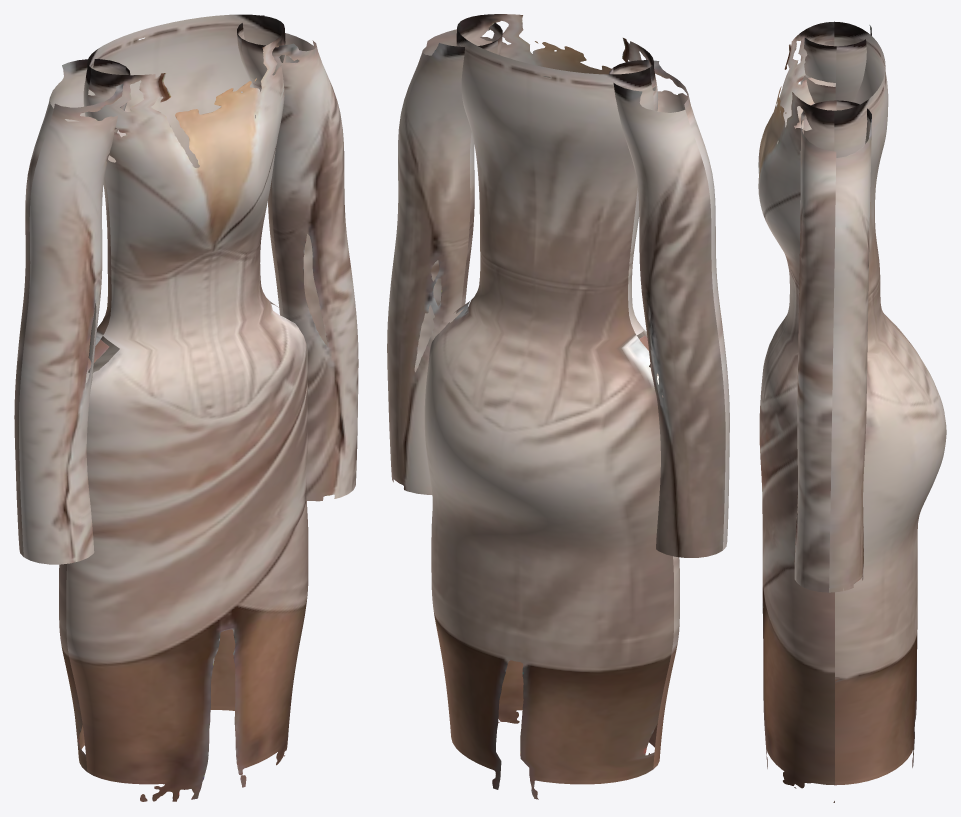
File: prod-ae-champagne-blazer-dress.glb
The picture shows the model from 3 angles, left to right: view 1: azimuth 30°, elevation 25°; view 2: azimuth 150°, elevation 25°; view 3: azimuth 270°, elevation 25°; orthographic projection. The views are drawn at different scales.
Parts seen in each view (by area): view 1: prod-ae-champagne-blazer-dress; view 2: prod-ae-champagne-blazer-dress; view 3: prod-ae-champagne-blazer-dress.
Boxes of the visible parts, x1,y1,x2,y2 form: prod-ae-champagne-blazer-dress: [14, 14, 358, 801]; prod-ae-champagne-blazer-dress: [387, 14, 729, 799]; prod-ae-champagne-blazer-dress: [758, 21, 946, 802].
Bounding box in the file's own units: 0.417 × 0.8586 × 0.2116.
1 material, 1 textured.
